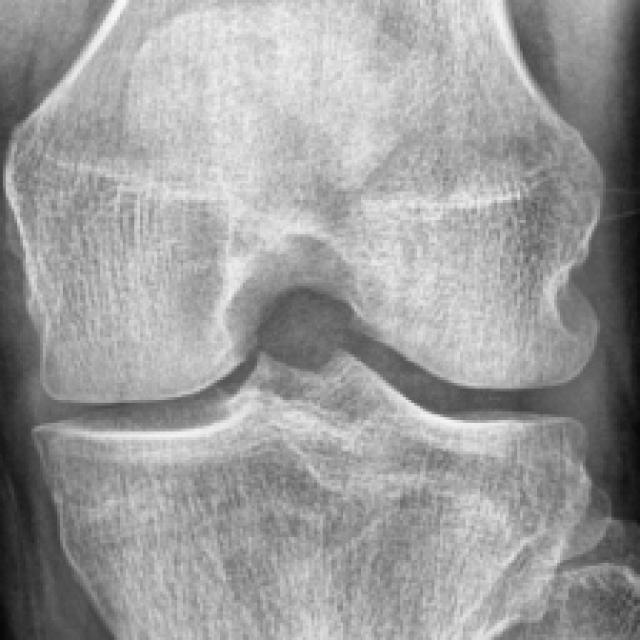femur: (2, 0, 605, 405)
tibia: (39, 353, 585, 637)
